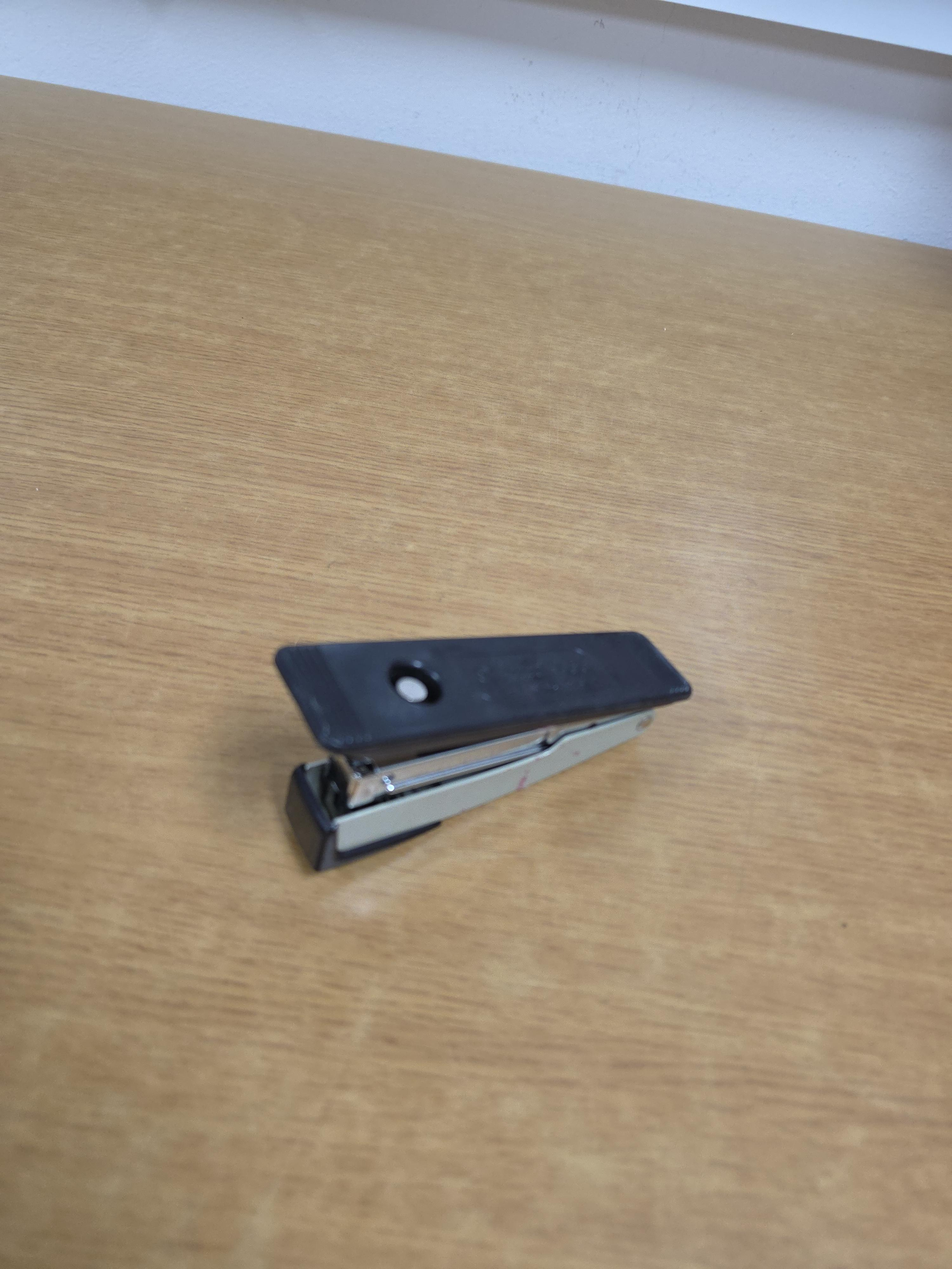stapler: (274, 629, 693, 872)
